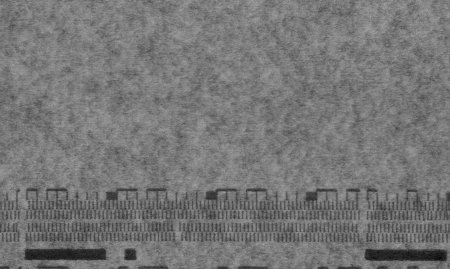Broken hole: (169, 219, 184, 242)
